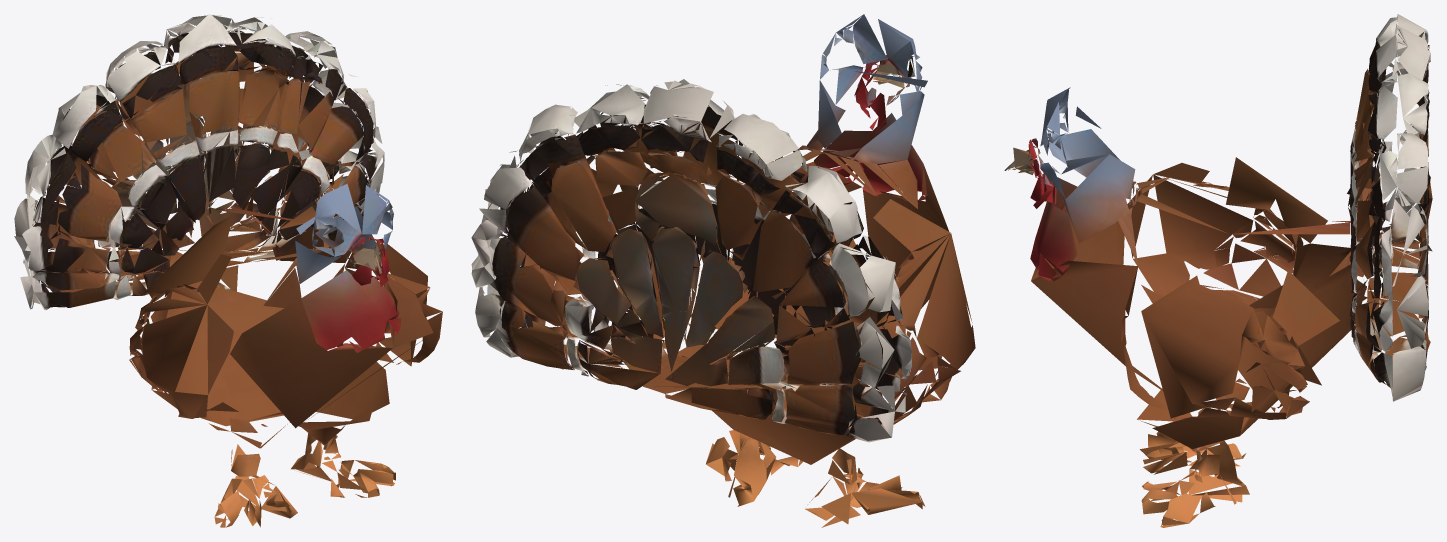
The model's file is turkey.glb.
3 renders of one model, left to right at view 1: azimuth 30°, elevation 25°; view 2: azimuth 150°, elevation 25°; view 3: azimuth 270°, elevation 25°, orthographic. The views are drawn at different scales.
Parts seen in each view (by area): view 1: model; view 2: model; view 3: model.
Part boxes in pixels (x1=…): model: x1=14, y1=14, x2=442, y2=527; model: x1=471, y1=14, x2=975, y2=527; model: x1=1004, y1=14, x2=1432, y2=527.
Size of the model in its own units: 1.74 by 1.92 by 1.63.
Materials: 1 (1 with a texture image).
